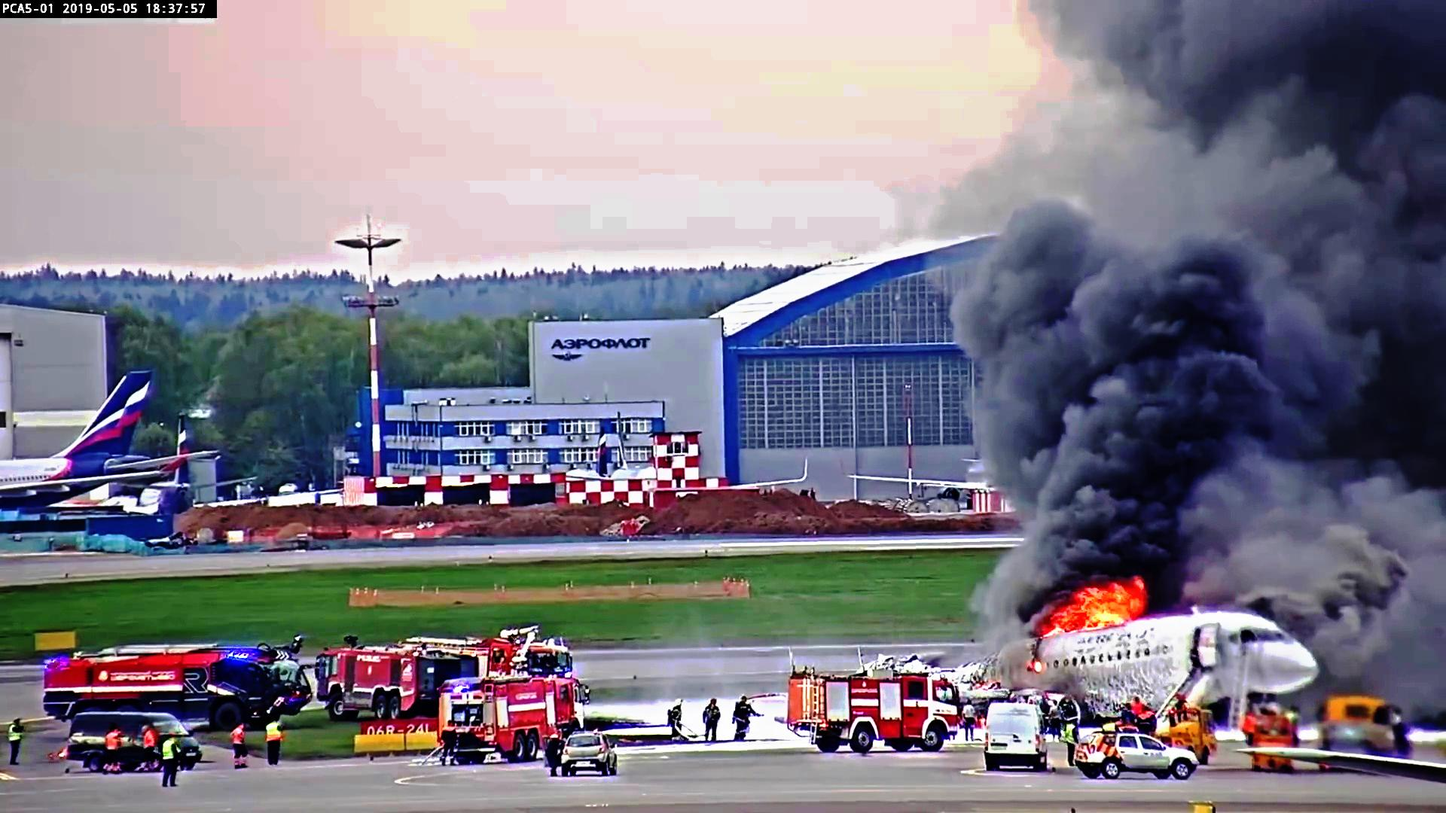fire: (1047, 582, 1144, 646)
smoke: (1197, 40, 1435, 620), (970, 215, 1258, 571)
